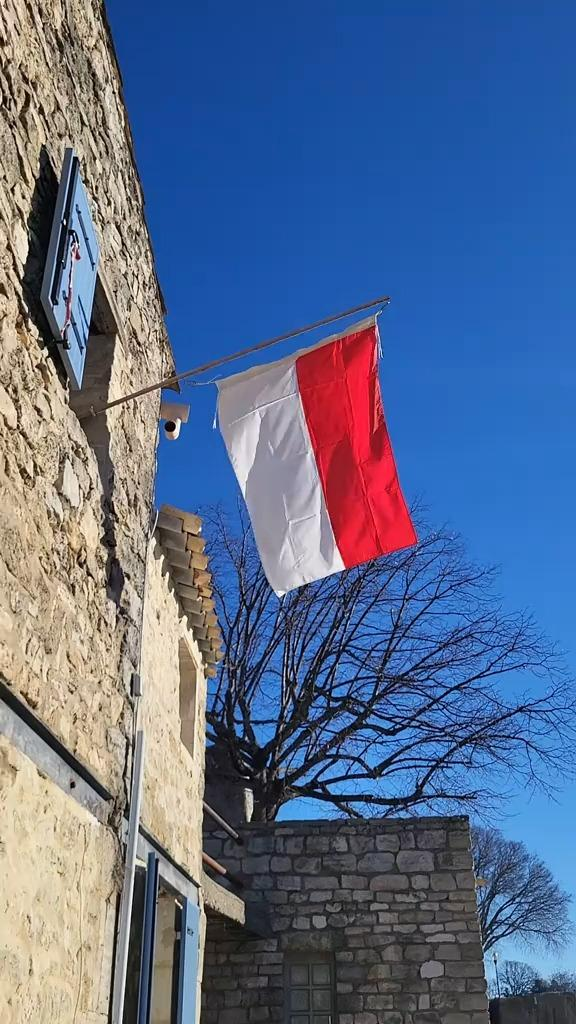Indonesia: (208, 320, 426, 606)
